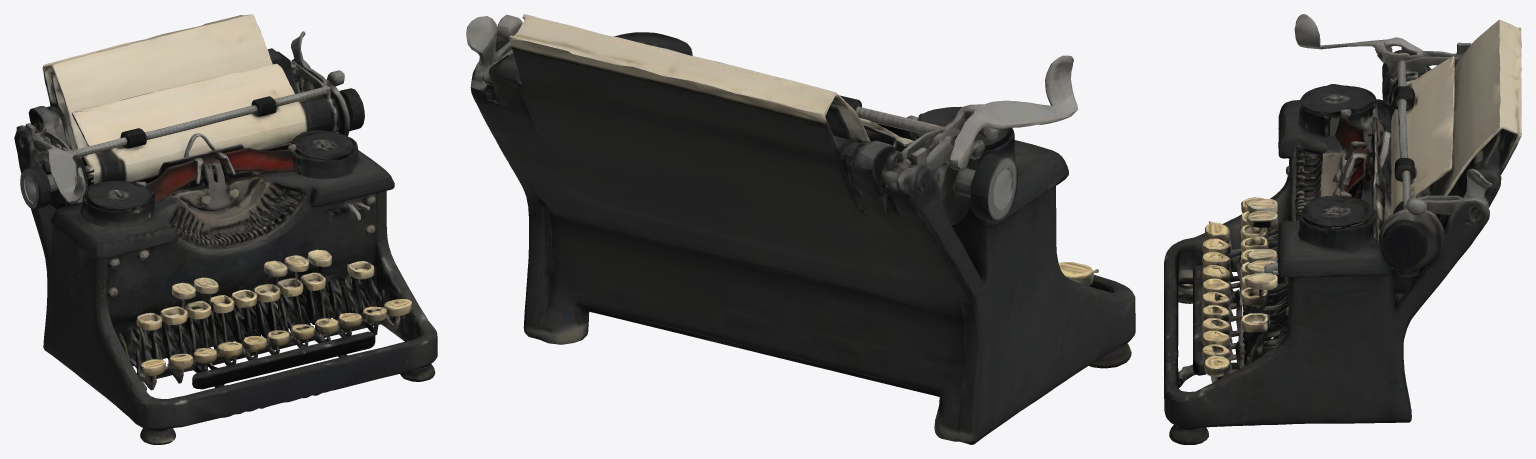
File: parts.glb
3 renders of one model, left to right at view 1: azimuth 30°, elevation 25°; view 2: azimuth 150°, elevation 25°; view 3: azimuth 270°, elevation 25°, orthographic. The views are drawn at different scales.
Size of the model in its own units: 0.32 by 0.2471 by 0.2693.
9 materials, 9 textured.
